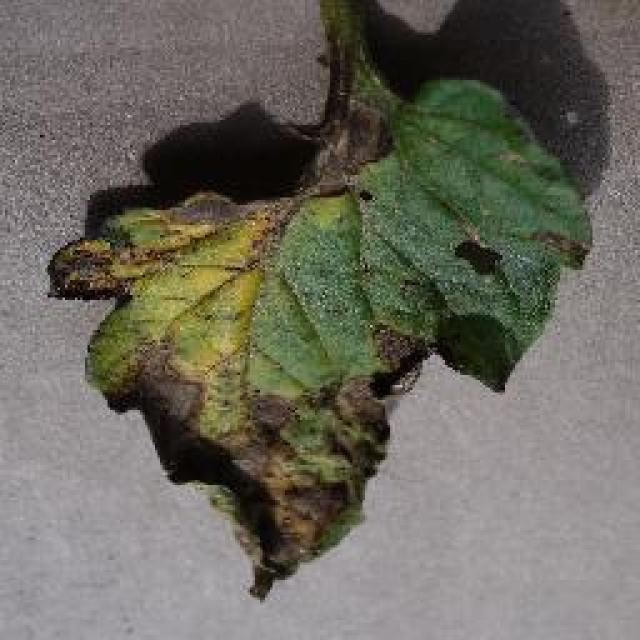Tomato___Early_blight: (39, 0, 601, 609)
